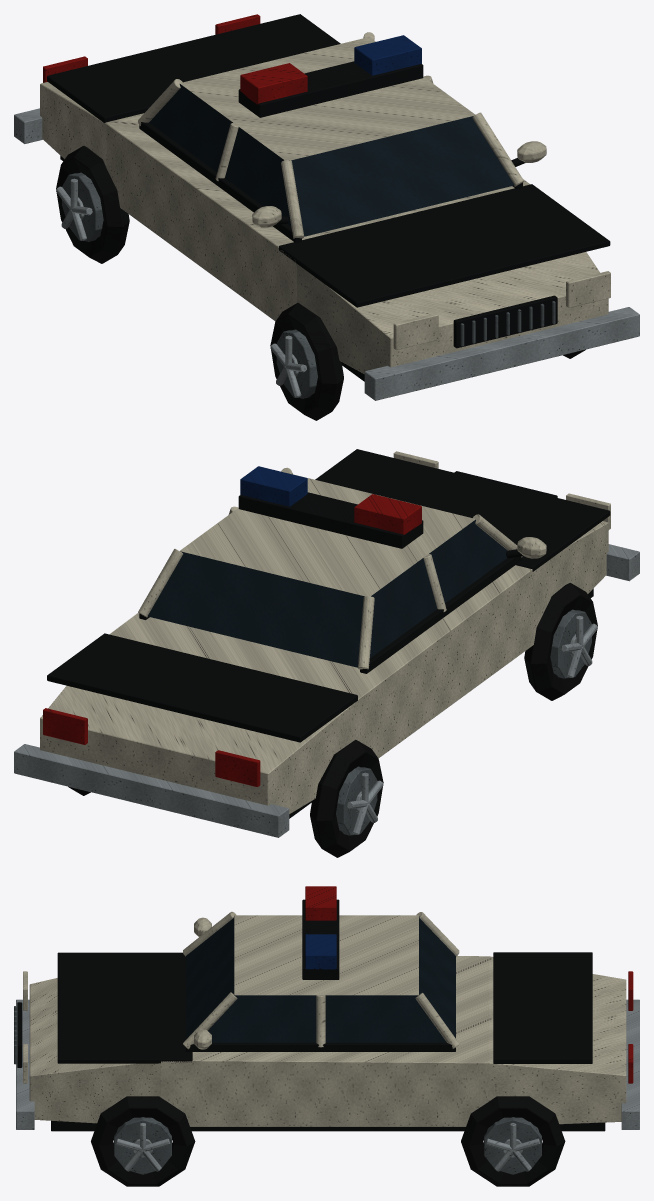
The model's file is PROP-FF2D8E417D6A_lod1.glb.
3 renders of one model, top to bottom at view 1: azimuth 30°, elevation 25°; view 2: azimuth 150°, elevation 25°; view 3: azimuth 270°, elevation 25°, orthographic. The views are drawn at different scales.
Visible parts, largest first — view 1: shaped_body_panels.020, sloped_cabin_glazing.020, black_hood.001, roof_panel.018, black_trunk.001, bumper.020, tire.020, lightbar.001, window_pillars.020, rim.020, lamp_lenses.040, radiator_grille.020 (+7 smaller); view 2: shaped_body_panels.020, sloped_cabin_glazing.020, black_trunk.001, roof_panel.018, black_hood.001, bumper.020, tire.020, lightbar.001, rim.020, window_pillars.020, lamp_lenses.041, window_belt.020 (+4 smaller); view 3: shaped_body_panels.020, sloped_cabin_glazing.020, black_hood.001, roof_panel.018, black_trunk.001, tire.020, rim.020, bumper.020, window_pillars.020, window_belt.020, chassis.020, rim_spokes.020 (+5 smaller).
Part boxes in pixels (x1,y1,x2,y2): shaped_body_panels.020: [40, 82, 608, 373]; sloped_cabin_glazing.020: [149, 84, 514, 236]; black_hood.001: [279, 184, 610, 307]; roof_panel.018: [179, 37, 475, 160]; black_trunk.001: [47, 14, 340, 122]; bumper.020: [14, 108, 639, 400]; tire.020: [56, 146, 585, 420]; lightbar.001: [238, 61, 423, 117]; window_pillars.020: [138, 32, 523, 238]; rim.020: [62, 172, 317, 398]; lamp_lenses.040: [393, 271, 610, 349]; radiator_grille.020: [453, 295, 557, 348]; shaped_body_panels.020: [40, 521, 608, 813]; sloped_cabin_glazing.020: [147, 519, 507, 667]; black_trunk.001: [47, 633, 357, 742]; roof_panel.018: [180, 473, 475, 596]; black_hood.001: [315, 449, 610, 571]; bumper.020: [14, 544, 639, 837]; tire.020: [68, 583, 597, 857]; lightbar.001: [238, 492, 423, 548]; rim.020: [336, 609, 591, 835]; window_pillars.020: [138, 467, 522, 669]; lamp_lenses.041: [43, 708, 260, 786]; window_belt.020: [139, 556, 522, 673]; shaped_body_panels.020: [29, 956, 626, 1126]; sloped_cabin_glazing.020: [186, 916, 455, 1042]; black_hood.001: [57, 952, 192, 1063]; roof_panel.018: [234, 915, 418, 995]; black_trunk.001: [493, 952, 592, 1063]; tire.020: [91, 1096, 565, 1186]; rim.020: [114, 1117, 541, 1174]; bumper.020: [16, 999, 639, 1129]; window_pillars.020: [183, 911, 459, 1049]; window_belt.020: [186, 1042, 455, 1051]; chassis.020: [51, 1120, 605, 1131]; rim_spokes.020: [115, 1123, 540, 1171].
Size of the model in its own units: 2.09 by 1.65 by 4.41.
8 materials, 8 textured.
